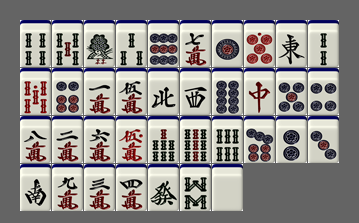0m: (116, 116, 147, 163)
0p: (244, 20, 275, 67)
0s: (20, 68, 51, 115)
1m: (84, 68, 115, 115)
1p: (212, 20, 243, 67)
1s: (84, 20, 115, 67)
1z: (276, 20, 307, 67)
2m: (52, 116, 83, 163)
2p: (276, 116, 307, 163)
2s: (308, 20, 339, 67)
2z: (20, 164, 51, 211)
3m: (84, 164, 115, 211)
3p: (308, 116, 339, 163)
3s: (116, 20, 147, 67)
3z: (180, 68, 211, 115)
4m: (116, 164, 147, 211)
4p: (308, 68, 339, 115)
4s: (20, 20, 51, 67)
4z: (148, 68, 179, 115)
5m: (116, 68, 147, 115)
5p: (276, 68, 307, 115)
5s: (52, 20, 83, 67)
5z: (212, 164, 243, 211)
6m: (84, 116, 115, 163)
6p: (52, 68, 83, 115)
6s: (212, 116, 243, 163)
6z: (148, 164, 179, 211)
7m: (180, 20, 211, 67)
7p: (244, 116, 275, 163)
7s: (148, 116, 179, 163)
7z: (244, 68, 275, 115)
8m: (20, 116, 51, 163)
8p: (212, 68, 243, 115)
8s: (180, 164, 211, 211)
9m: (52, 164, 83, 211)
9p: (148, 20, 179, 67)
9s: (180, 116, 211, 163)
